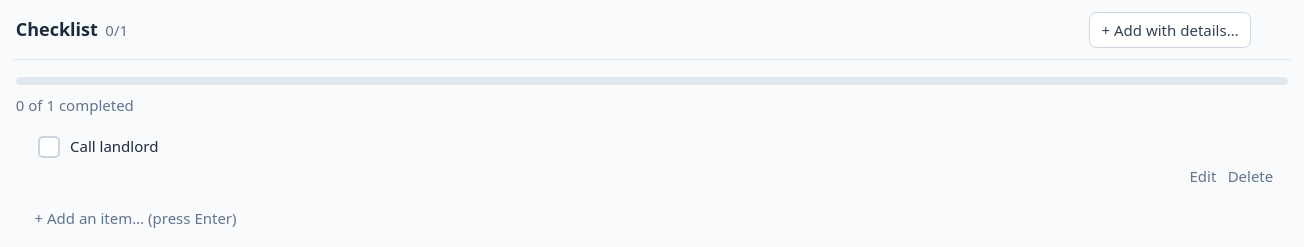
Checklist write failures › puts the old title back when renaming an item failed
Click the text "Call landlord" at (114,146), box [70, 136, 158, 156]
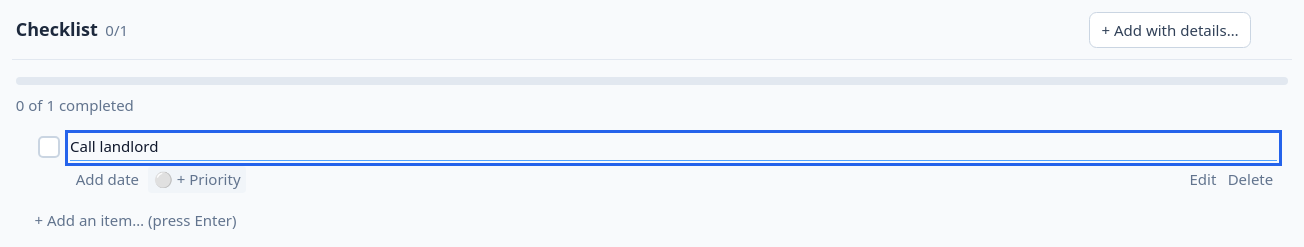
Replace the text in the field showing "Call landlord" with "Call the office" at (674,148), box [70, 135, 1277, 161]
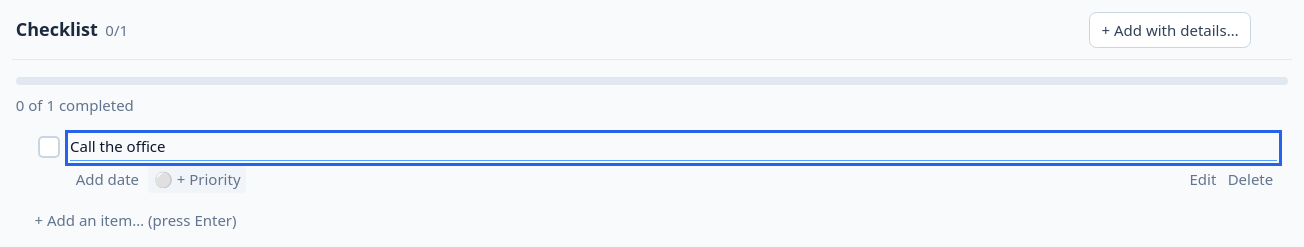
Press Enter in the field showing "Call landlord", box [70, 135, 1277, 161]
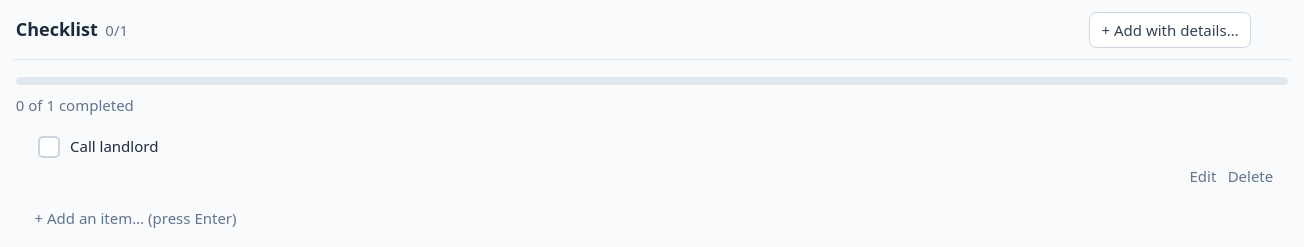
Expected: the text "Call the office" is not shown
Now the text "Call landlord" is shown, box [70, 136, 158, 156]
